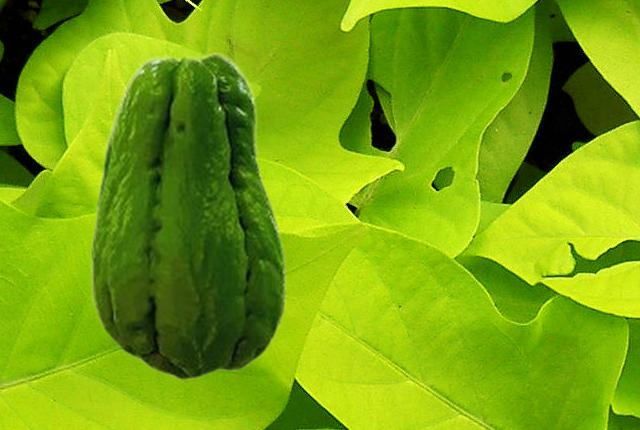sayote: (90, 51, 286, 380)
